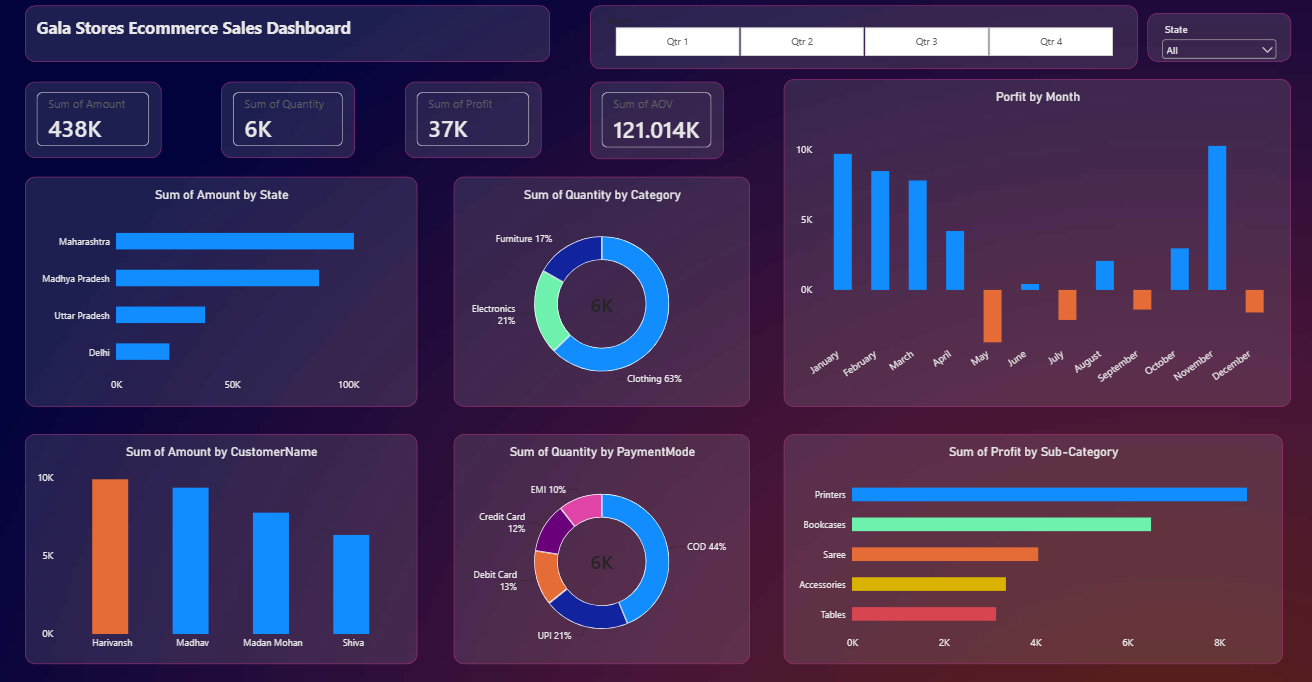

What the dashboard file says about the page in this screenshot:
{"tool":"powerbi","page":{"name":"Page 1","canvas":[1920,1080],"ordinal":0},"visuals":[{"type":"textbox","box":[43.4,47.1,760.1,81.4],"z":0},{"type":"columnChart","title":"Porfit by Month","fields":{"Category":["Orders.Order Date.Variation.Date Hierarchy.Month"],"Y":["Sum(Details.Profit)"]},"box":[1141.9,153.8,734.7,474.1],"z":1},{"type":"barChart","fields":{"Category":["Details.Sub-Category"],"Y":["Sum(Details.Profit)"]},"box":[1141.9,667.8,722.1,333],"z":2},{"type":"donutChart","fields":{"Category":["Details.Category"],"Y":["Sum(Details.Quantity)"]},"box":[664.1,295,428.9,333],"z":3},{"type":"donutChart","fields":{"Category":["Details.PaymentMode"],"Y":["Sum(Details.Quantity)"]},"box":[664.1,667.8,428.9,333],"z":4},{"type":"cardVisual","fields":{"Data":["Sum(Details.Amount)"]},"box":[43.4,157.4,197.3,110.4],"z":5},{"type":"cardVisual","fields":{"Data":["Sum(Details.Profit)"]},"box":[593.6,157.4,197.3,110.4],"z":6},{"type":"cardVisual","fields":{"Data":["Sum(Details.Quantity)"]},"box":[327.5,157.4,193.6,110.4],"z":7},{"type":"cardVisual","fields":{"Data":["Sum(Details.AOV)"]},"box":[861.4,157.4,193.6,112.2],"z":8},{"type":"barChart","fields":{"Category":["Orders.State"],"Y":["Sum(Details.Amount)"]},"box":[43.4,295,568.2,333],"z":9},{"type":"columnChart","fields":{"Category":["Orders.CustomerName"],"Y":["Sum(Details.Amount)"]},"box":[43.4,667.8,568.2,333],"z":10},{"type":"slicer","fields":{"Values":["Orders.Order Date.Variation.Date Hierarchy.Quarter"]},"box":[861.4,47.1,792.6,92.3],"z":11},{"type":"slicer","fields":{"Values":["Orders.State"]},"box":[1668.5,57.9,208.1,70.6],"z":12}]}

Visuals, with their boxes on the page's 1920x1080 design canvas (x1, y1, x2, y2). These are canvas units, not pixel positions in the 1312x682 screenshot, which may show the page scaled, cropped or inside an application window:
textbox: [43,47,804,128]
"Porfit by Month" columnChart: [1142,154,1877,628]
barChart - Details.Sub-Category x Sum(Details.Profit): [1142,668,1864,1001]
donutChart - Details.Category x Sum(Details.Quantity): [664,295,1093,628]
donutChart - Details.PaymentMode x Sum(Details.Quantity): [664,668,1093,1001]
cardVisual - Sum(Details.Amount): [43,157,241,268]
cardVisual - Sum(Details.Profit): [594,157,791,268]
cardVisual - Sum(Details.Quantity): [328,157,521,268]
cardVisual - Sum(Details.AOV): [861,157,1055,270]
barChart - Orders.State x Sum(Details.Amount): [43,295,612,628]
columnChart - Orders.CustomerName x Sum(Details.Amount): [43,668,612,1001]
slicer - Orders.Order Date.Variation.Date Hierarchy.Quarter: [861,47,1654,139]
slicer - Orders.State: [1668,58,1877,128]
